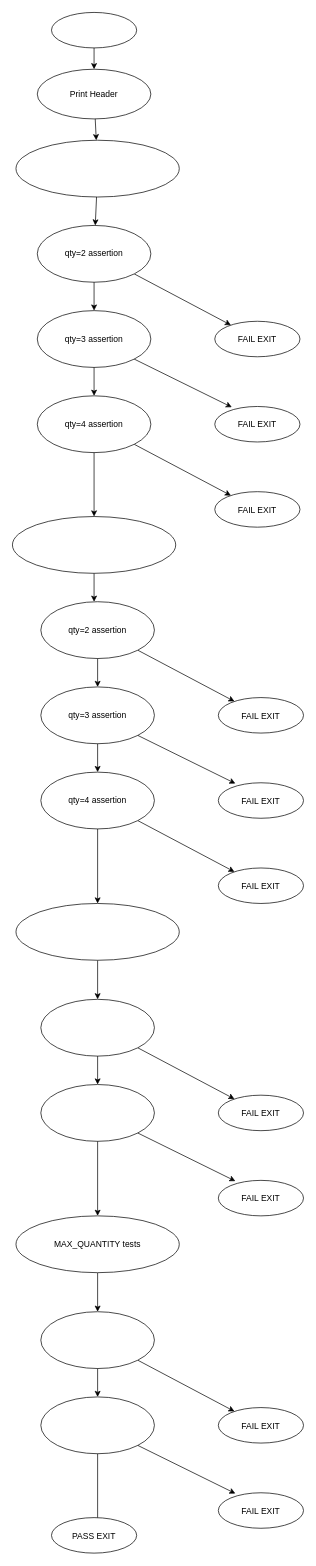
Some shapes in this 316 by 1566 pixel diagram are drawn without their labels. The centre of each missing label's shape, as x and y in pixels:
"APPLE threshold qty=3 tests" belongs at [94,544].
"BANANA threshold qty=3 tests" belongs at [97,168].
"Orange alone assertion" belongs at [97,1027].
"Orange+Grape assertion" belongs at [97,1112].
"ORANGE+GRAPE combo tests" belongs at [97,931].
"qty=10 assertion" belongs at [97,1340].
"qty=11 raises ValueError?" belongs at [97,1425].
"Start" belongs at [94,30].
